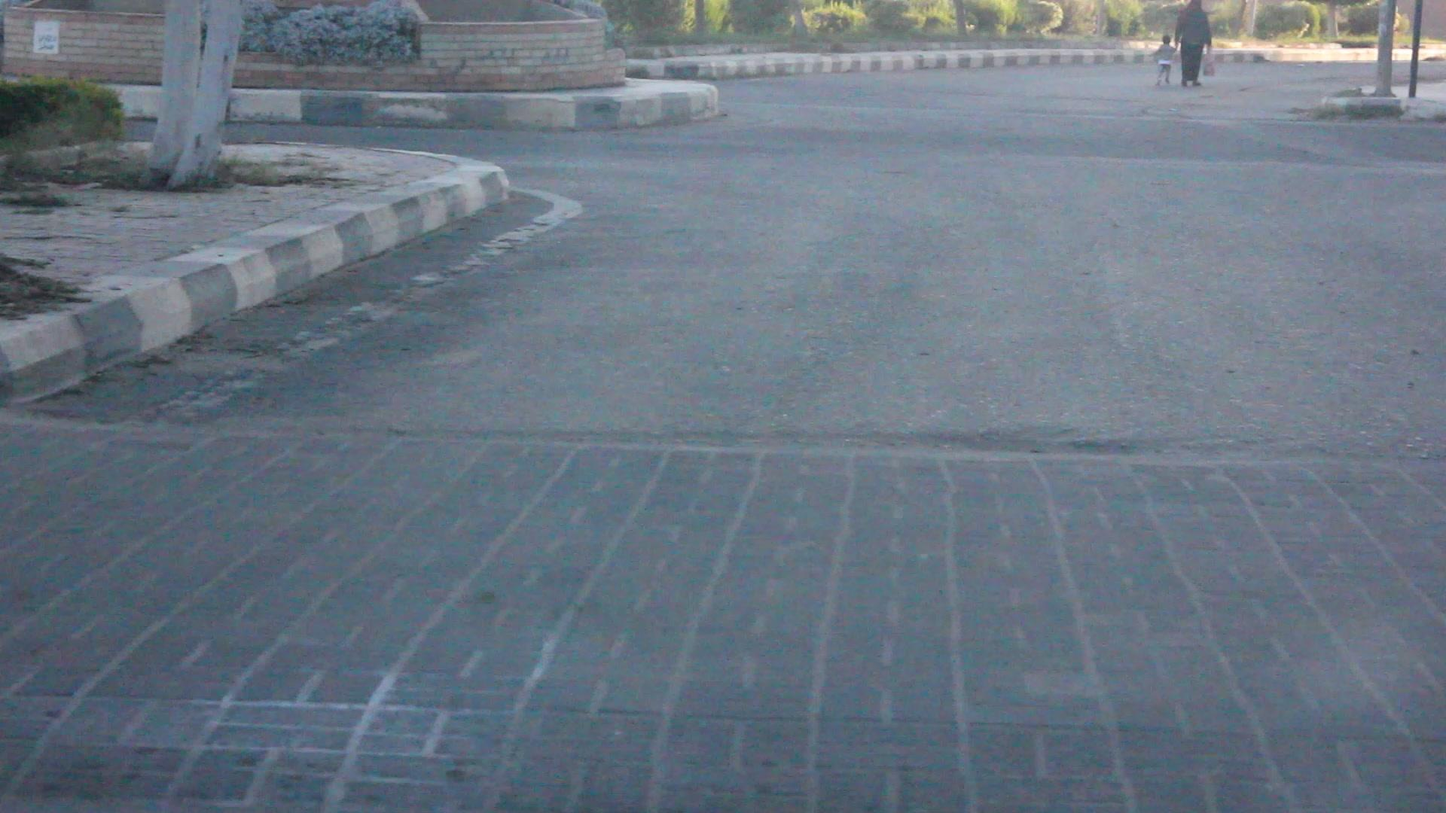Bump: (4, 422, 1446, 813)
